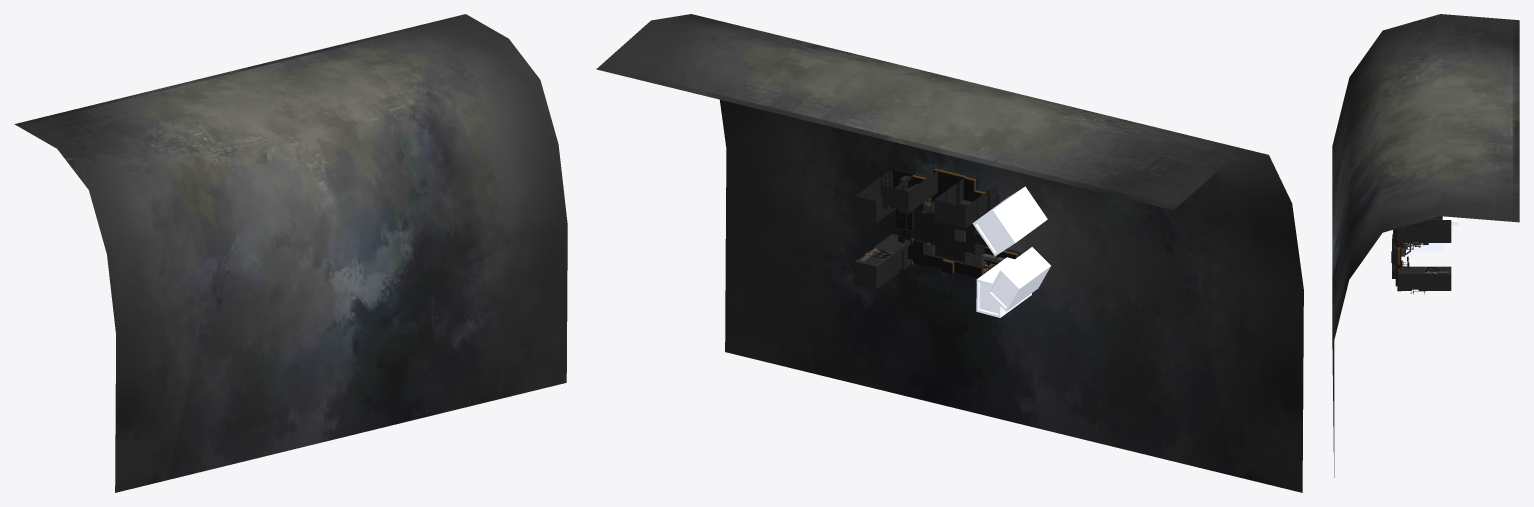
The model's file is BATTLE.fbx.
3 renders of one model, left to right at view 1: azimuth 30°, elevation 25°; view 2: azimuth 150°, elevation 25°; view 3: azimuth 270°, elevation 25°, orthographic. The views are drawn at different scales.
Parts seen in each view (by area): view 1: BG_Qcity; view 2: BG_Qcity, Shadow (1), Shadow (3), S_Outworld_prop_0374, S_Outworld_prop_0638, S_Outworld_prop_015, Shadow (4), S_Outworld_prop_00; view 3: BG_Qcity, S_Outworld_prop_0638, S_Outworld_prop_0639, S_Outworld_prop_00, S_Outworld_prop_01, Shadow (4).
Part boxes in pixels (x1,y1,x2,y2): BG_Qcity: (14,14,567,492); BG_Qcity: (596,14,1303,492); Shadow (1): (972,186,1047,256); Shadow (3): (987,247,1050,311); S_Outworld_prop_0374: (934,176,997,228); S_Outworld_prop_0638: (854,248,894,290); S_Outworld_prop_015: (882,170,938,214); Shadow (4): (976,257,1031,317); S_Outworld_prop_00: (854,183,894,223); BG_Qcity: (1332,14,1519,477); S_Outworld_prop_0638: (1425,266,1451,290); S_Outworld_prop_0639: (1398,266,1424,290); S_Outworld_prop_00: (1425,220,1451,242); S_Outworld_prop_01: (1398,221,1424,242); Shadow (4): (1406,243,1443,252).
Bounding box in the file's own units: 0.5573 × 0.3558 × 0.2179.
